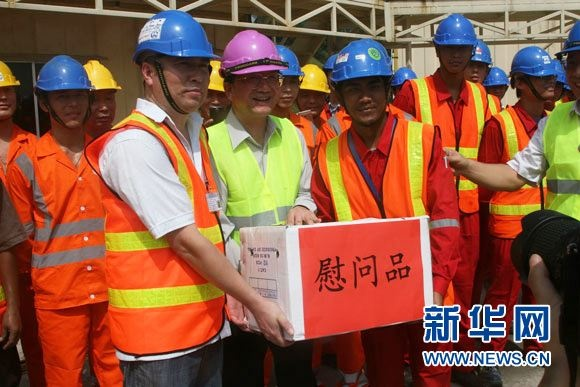blue: (132, 5, 210, 113), (331, 32, 394, 127), (33, 55, 90, 127), (507, 49, 559, 106), (431, 13, 473, 73), (272, 41, 302, 108), (465, 39, 491, 83), (479, 67, 509, 100)
red: (220, 25, 282, 118)
yellow: (80, 58, 118, 131), (295, 61, 329, 118), (203, 58, 228, 115), (1, 59, 20, 124)
